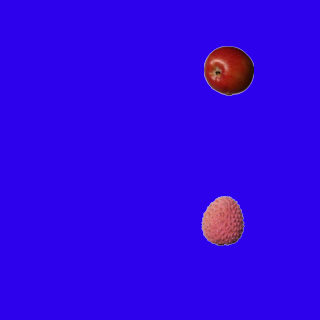Apple Braeburn: (203, 45, 253, 95)
Lychee: (197, 195, 247, 245)
